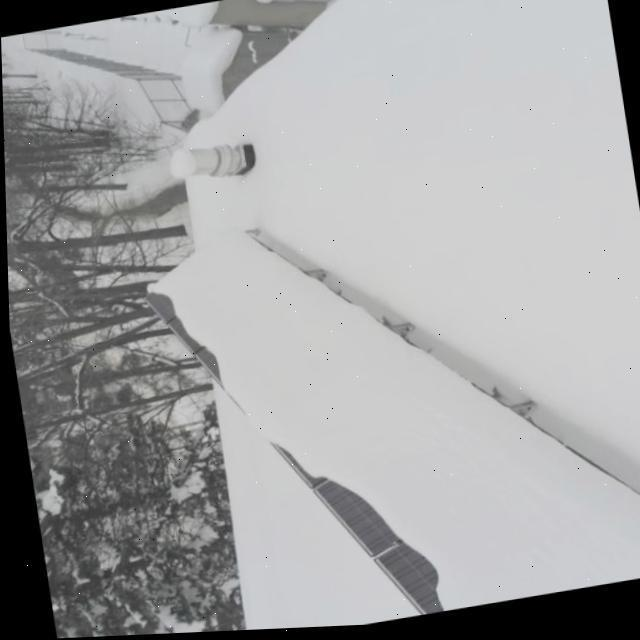Anomaly Solar Panel: (137, 227, 640, 618)
Snow: (145, 231, 640, 615)
